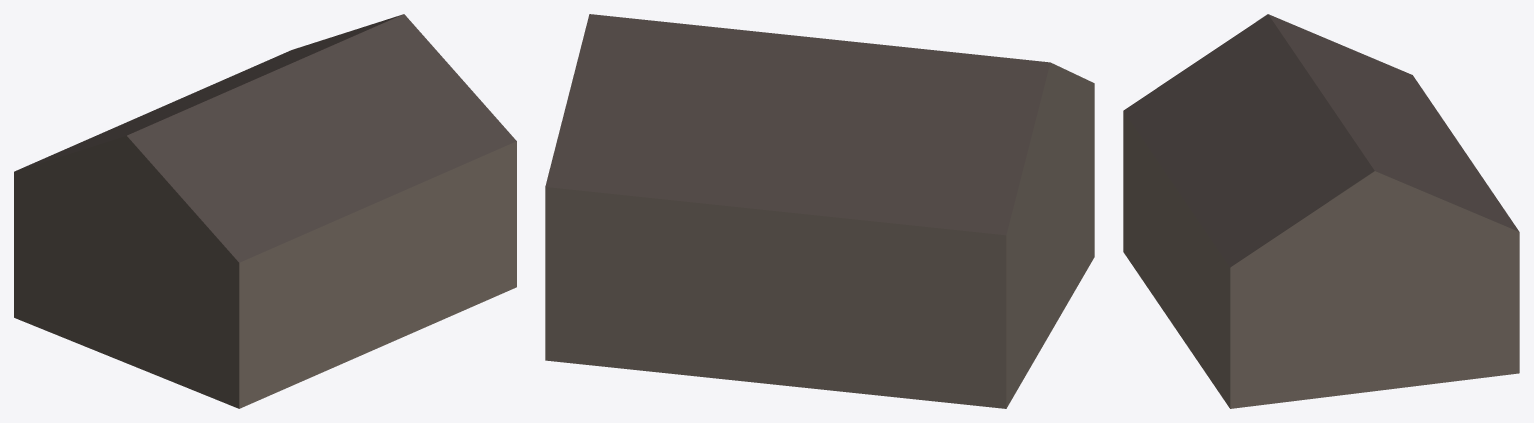
The picture shows the model from 3 angles, left to right: view 1: azimuth 30°, elevation 25°; view 2: azimuth 150°, elevation 25°; view 3: azimuth 270°, elevation 25°; orthographic projection. The views are drawn at different scales.
Parts seen in each view (by area): view 1: HP-w1200835415; view 2: HP-w1200835415; view 3: HP-w1200835415.
Part boxes in pixels (left/top/right/bottom): HP-w1200835415: left=14, top=14, right=516, bottom=408; HP-w1200835415: left=545, top=14, right=1094, bottom=408; HP-w1200835415: left=1123, top=14, right=1519, bottom=408.
Bounding box in the file's own units: 17.54 × 9.35 × 15.26.
